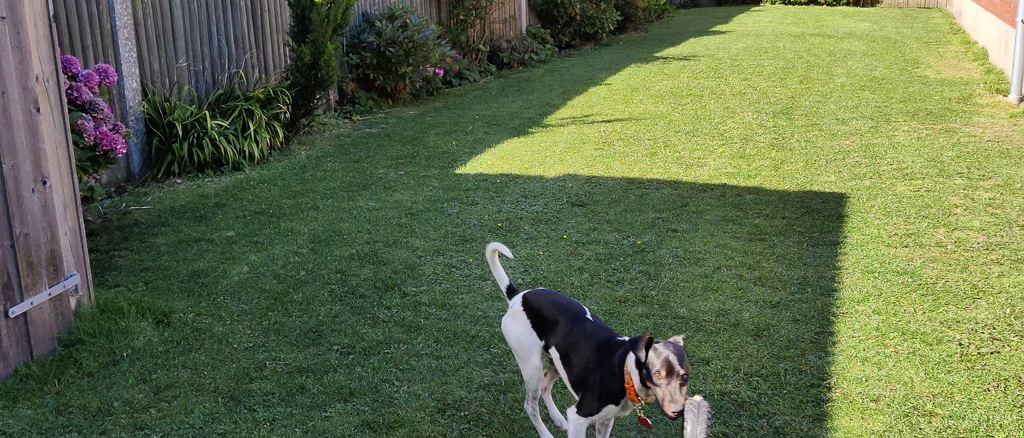Dog: (475, 229, 700, 438)
